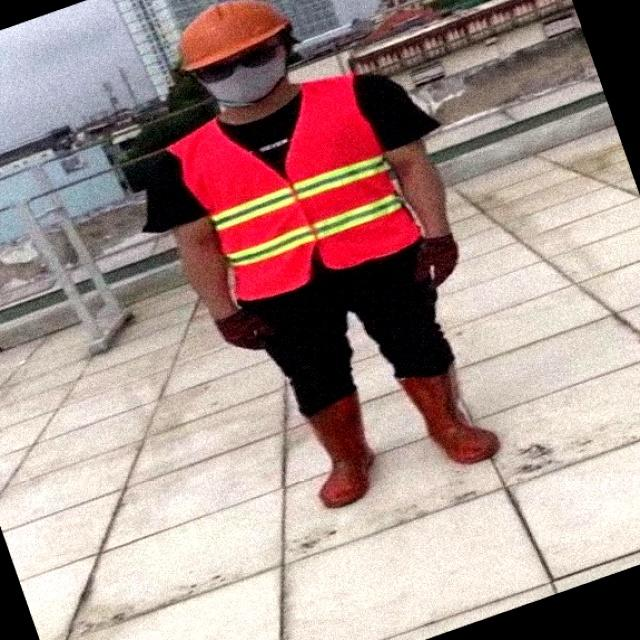Capacete: (179, 0, 291, 70)
Colete: (168, 75, 420, 300)
Oculos: (196, 44, 278, 82)
